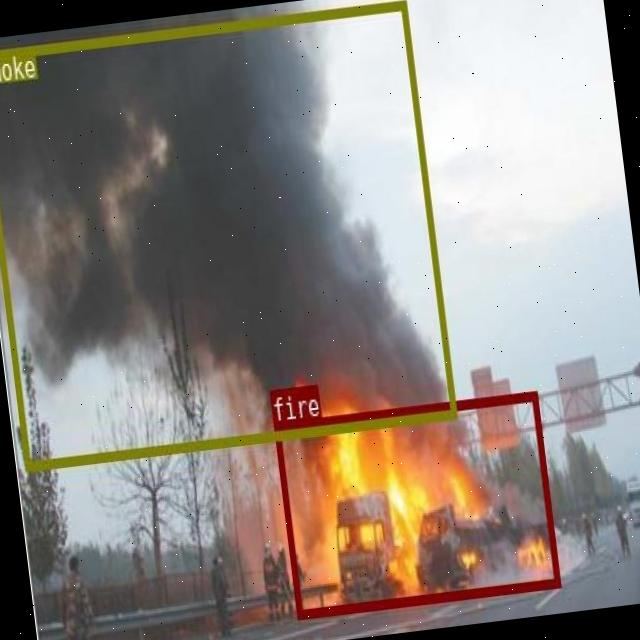fire: (273, 389, 559, 617)
smoke: (0, 0, 454, 468)
